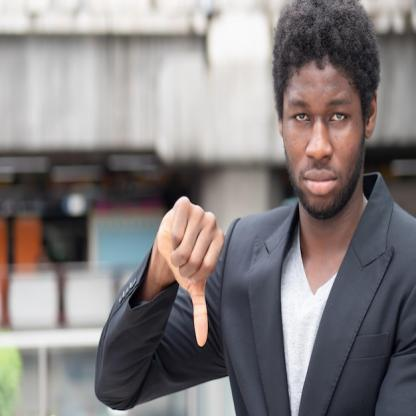thumb_down: (154, 191, 226, 350)
